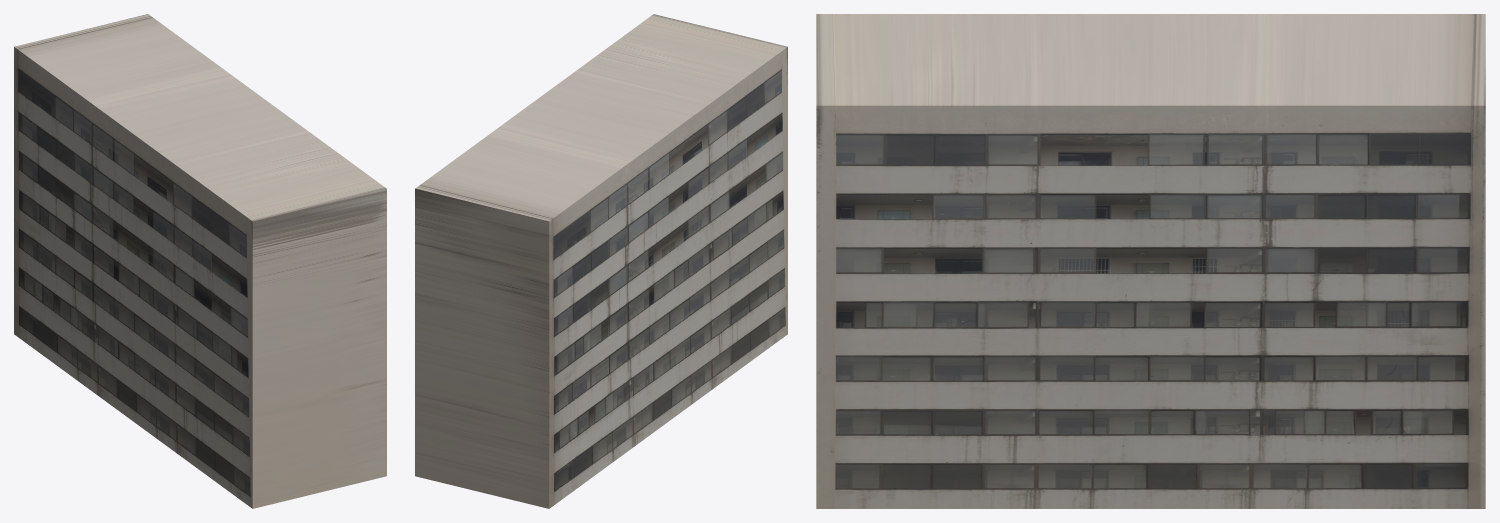
The model's file is Building.fbx.
3 renders of one model, left to right at view 1: azimuth 30°, elevation 25°; view 2: azimuth 150°, elevation 25°; view 3: azimuth 270°, elevation 25°, orthographic. The views are drawn at different scales.
Visible parts, largest first — view 1: pCube30; view 2: pCube30; view 3: pCube30.
Part boxes in pixels (box(x1,y1,x2,y2)): pCube30: box(14, 14, 386, 508); pCube30: box(415, 14, 787, 508); pCube30: box(816, 14, 1485, 508).
Size of the model in its own units: 0.1817 by 0.3722 by 0.5598.
1 material, 1 textured.
